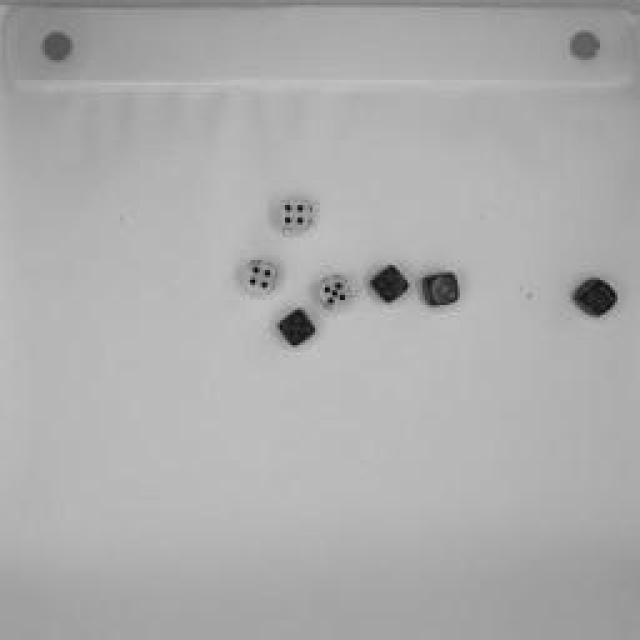dice_3: (418, 265, 468, 310)
dice_4: (274, 195, 324, 237), (368, 259, 412, 306), (238, 259, 284, 299)
dice_5: (275, 306, 320, 349), (314, 269, 356, 311)
dice_6: (572, 278, 618, 320)
